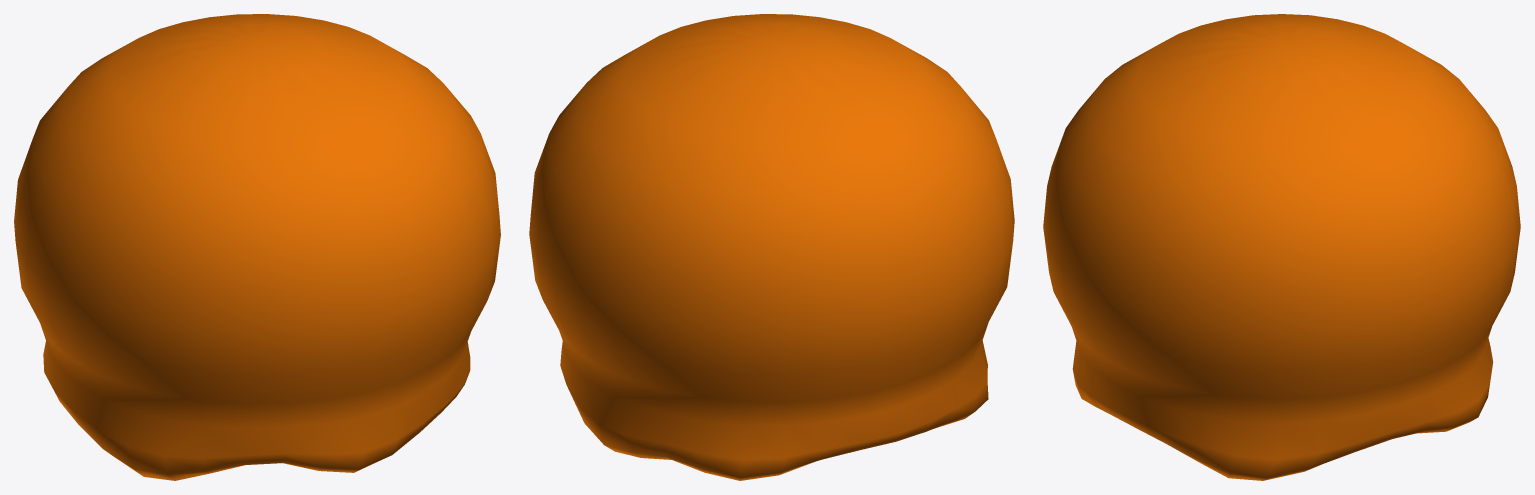
Rendered from Ice Cream Melted Brown.fbx.
The picture shows the model from 3 angles, left to right: view 1: azimuth 30°, elevation 25°; view 2: azimuth 150°, elevation 25°; view 3: azimuth 270°, elevation 25°; orthographic projection. The views are drawn at different scales.
Visible parts, largest first — view 1: Ice Cream Melted Brown; view 2: Ice Cream Melted Brown; view 3: Ice Cream Melted Brown.
Part boxes in pixels (x1,y1,x2,y2): Ice Cream Melted Brown: (14,14,500,480); Ice Cream Melted Brown: (529,14,1014,480); Ice Cream Melted Brown: (1043,14,1520,480).
Bounding box in the file's own units: 0.4884 × 0.3979 × 0.4884.
